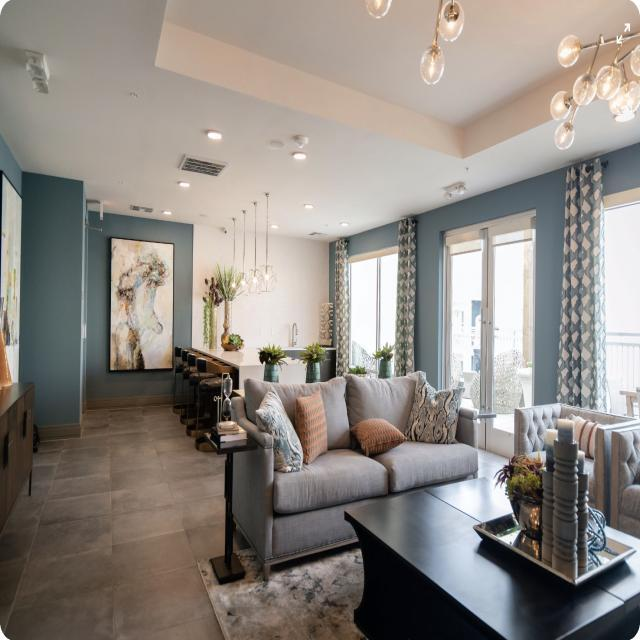lamp: (553, 31, 638, 146), (422, 0, 464, 88), (230, 252, 276, 296)
picture: (109, 224, 178, 380)
pillow: (254, 388, 307, 469), (290, 394, 332, 462), (347, 414, 412, 454)
potted plant: (498, 440, 542, 532), (218, 265, 238, 345), (373, 335, 396, 378), (261, 340, 283, 384), (304, 344, 322, 384)
sofa: (218, 361, 489, 581)
